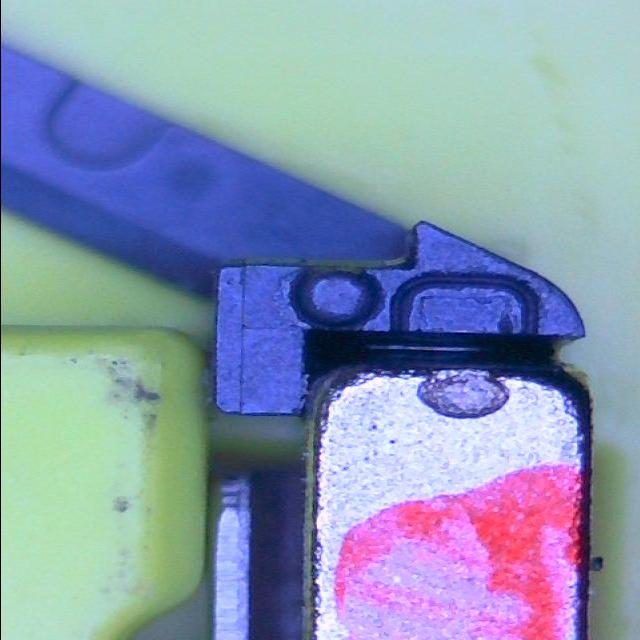lacking: (386, 271, 542, 341)
